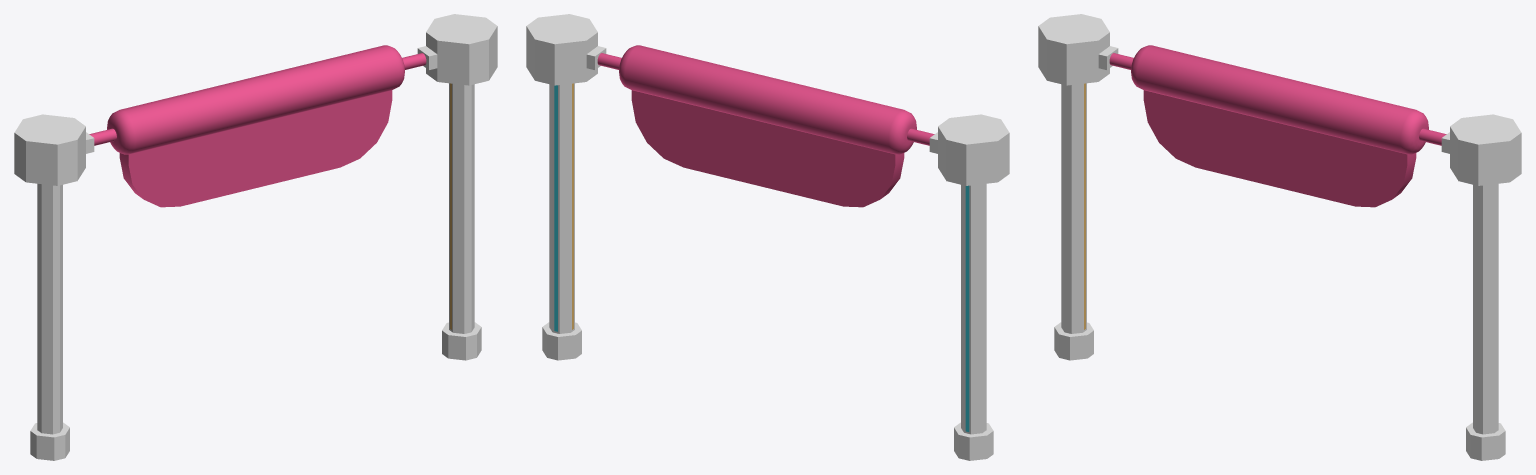
The model's file is Deco-finishPole.fbx.
The picture shows the model from 3 angles, left to right: view 1: azimuth 30°, elevation 25°; view 2: azimuth 150°, elevation 25°; view 3: azimuth 330°, elevation 25°; orthographic projection.
Parts seen in each view (by area): view 1: Cube.001; view 2: Cube.001; view 3: Cube.001.
Boxes of the visible parts, box(x1,y1,x2,y2) form: Cube.001: box(14, 14, 497, 460); Cube.001: box(526, 14, 1009, 460); Cube.001: box(1038, 14, 1521, 460).
Bounding box in the file's own units: 1430 × 936 × 182.
